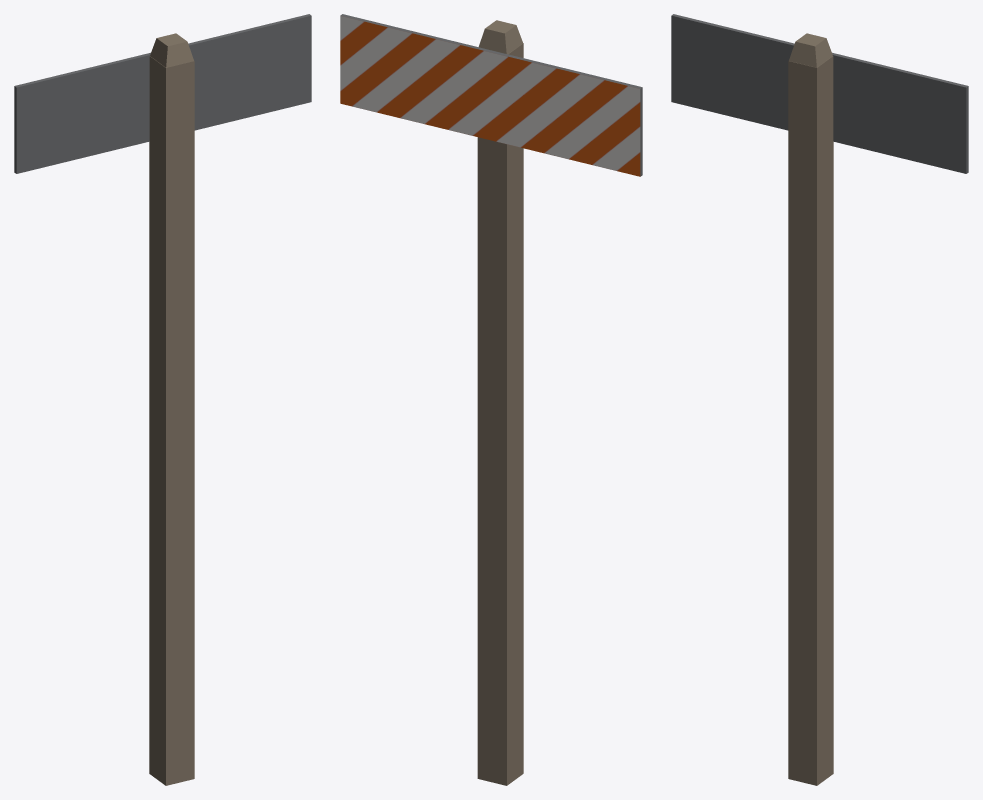
Rendered from work-board-stripes.glb.
The picture shows the model from 3 angles, left to right: view 1: azimuth 30°, elevation 25°; view 2: azimuth 150°, elevation 25°; view 3: azimuth 330°, elevation 25°; orthographic projection.
Parts seen in each view (by area): view 1: work-board-stripes; view 2: work-board-stripes; view 3: work-board-stripes.
Boxes of the visible parts, x1=… form: work-board-stripes: x1=14, y1=14, x2=311, y2=785; work-board-stripes: x1=340, y1=14, x2=642, y2=785; work-board-stripes: x1=671, y1=14, x2=968, y2=785.
Bounding box in the file's own units: 0.914 × 2.18 × 0.099.
Materials: 3 (1 with a texture image).
